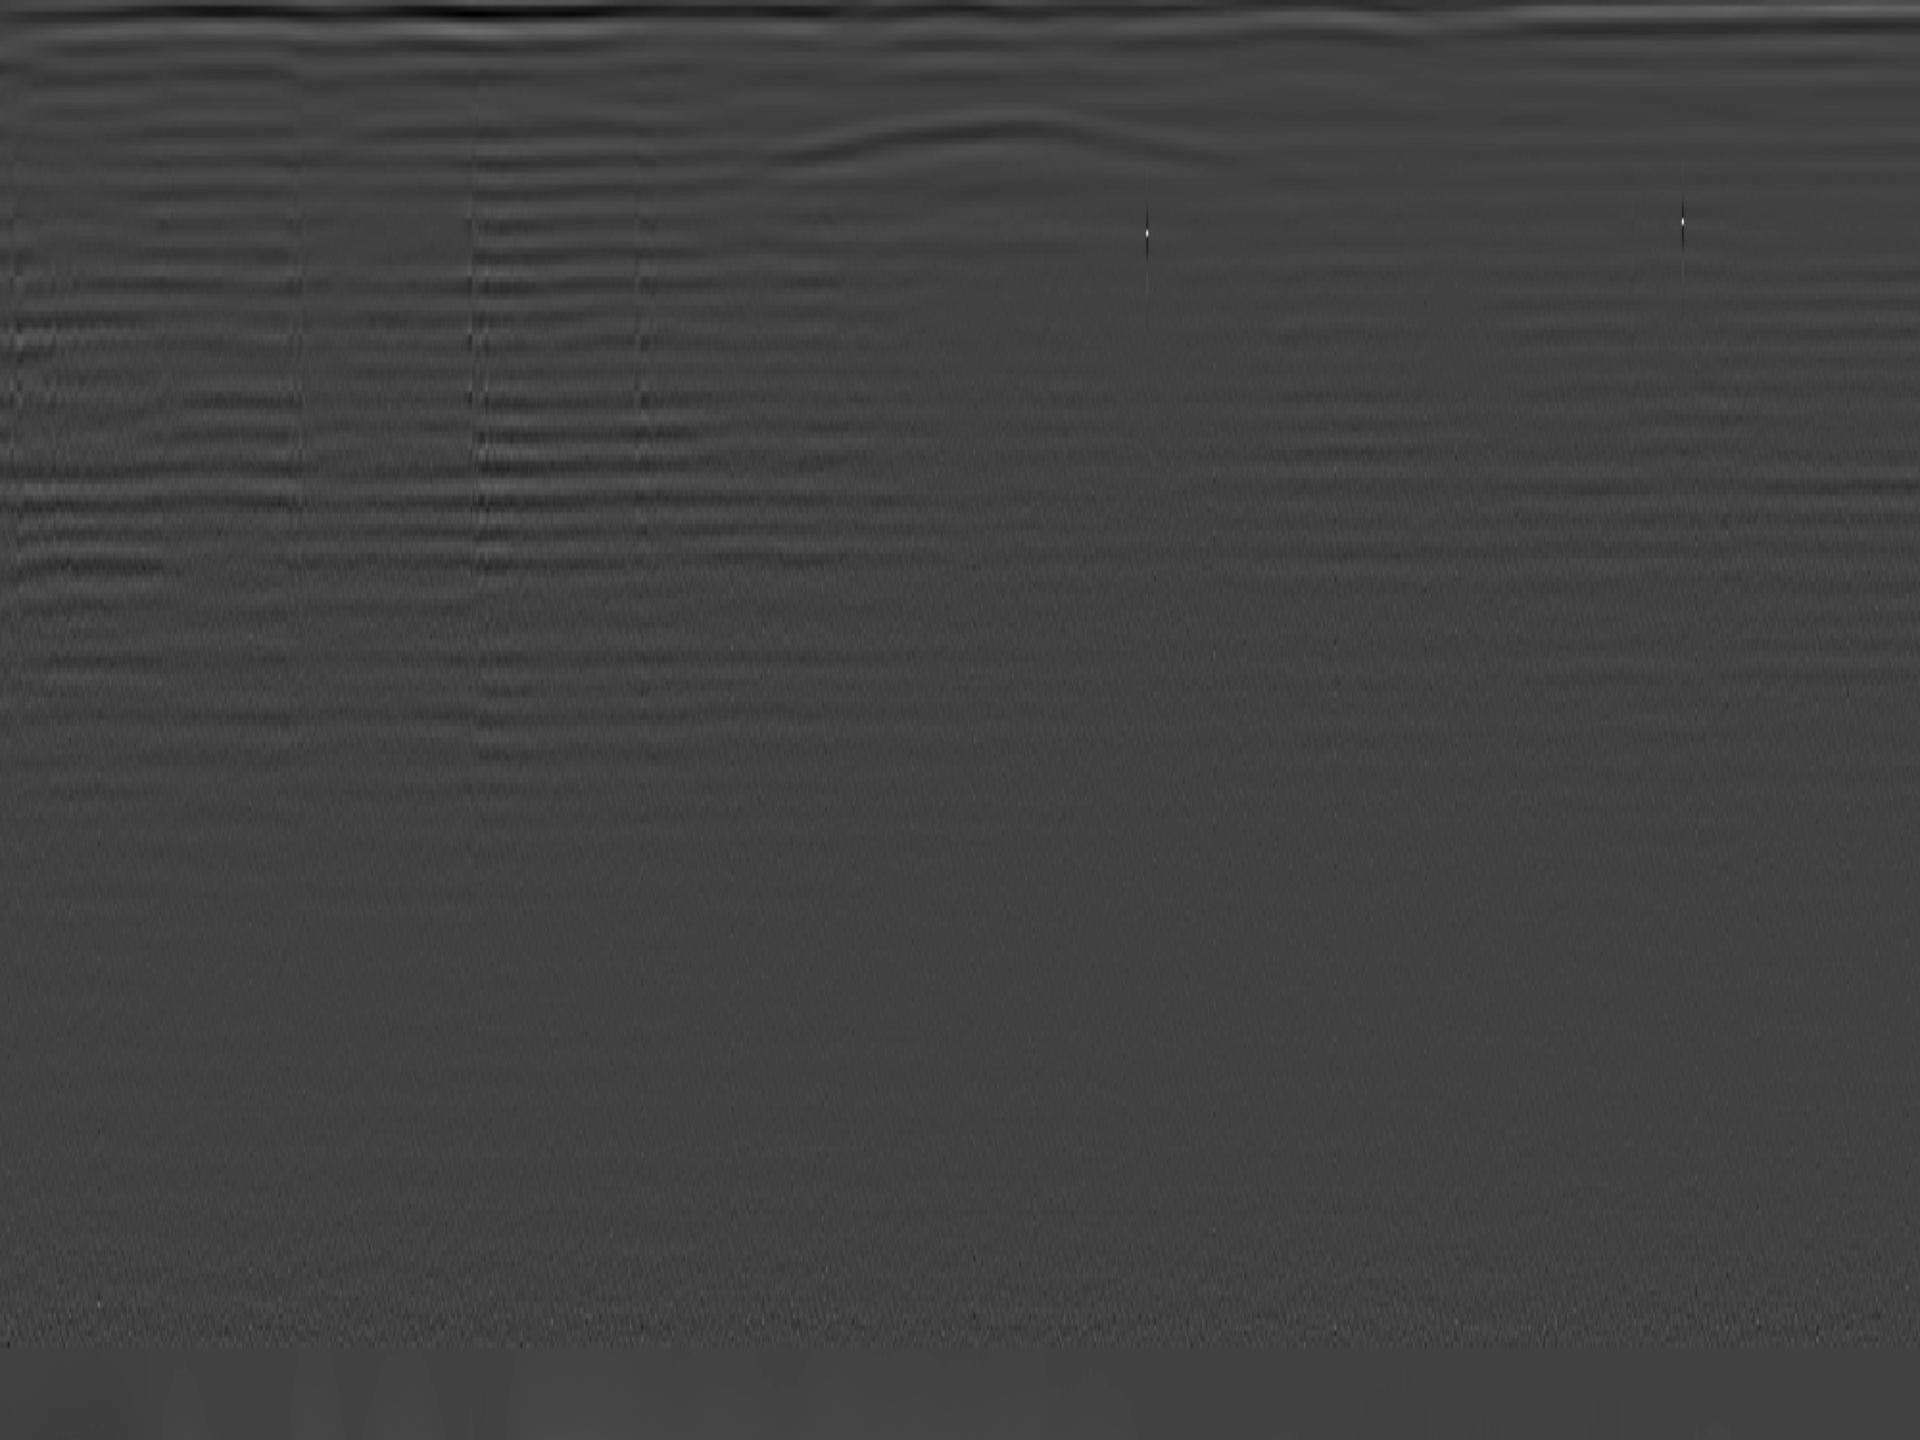Tunnel: (762, 112, 1247, 175)
